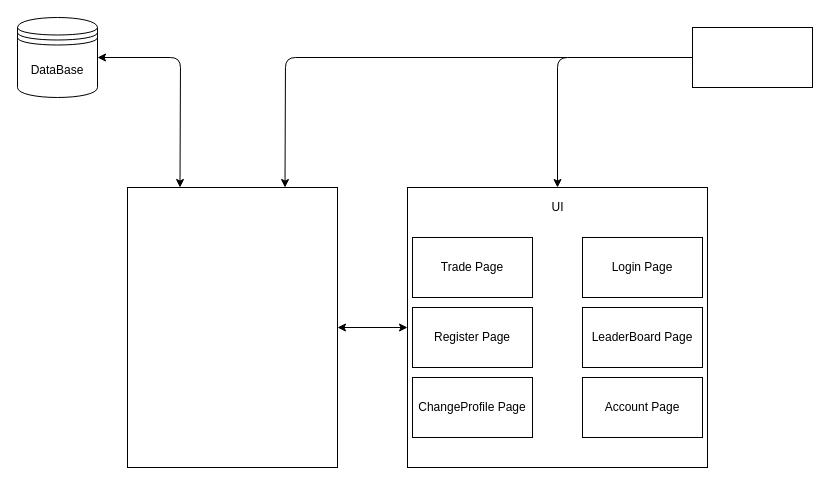
Image size: 830x485. Some labels were removed from this diagram. The centre of each missing label's shape, as x and y in pixels:
"API" goes at point 752,57.
"Application Logic" goes at point 232,327.
